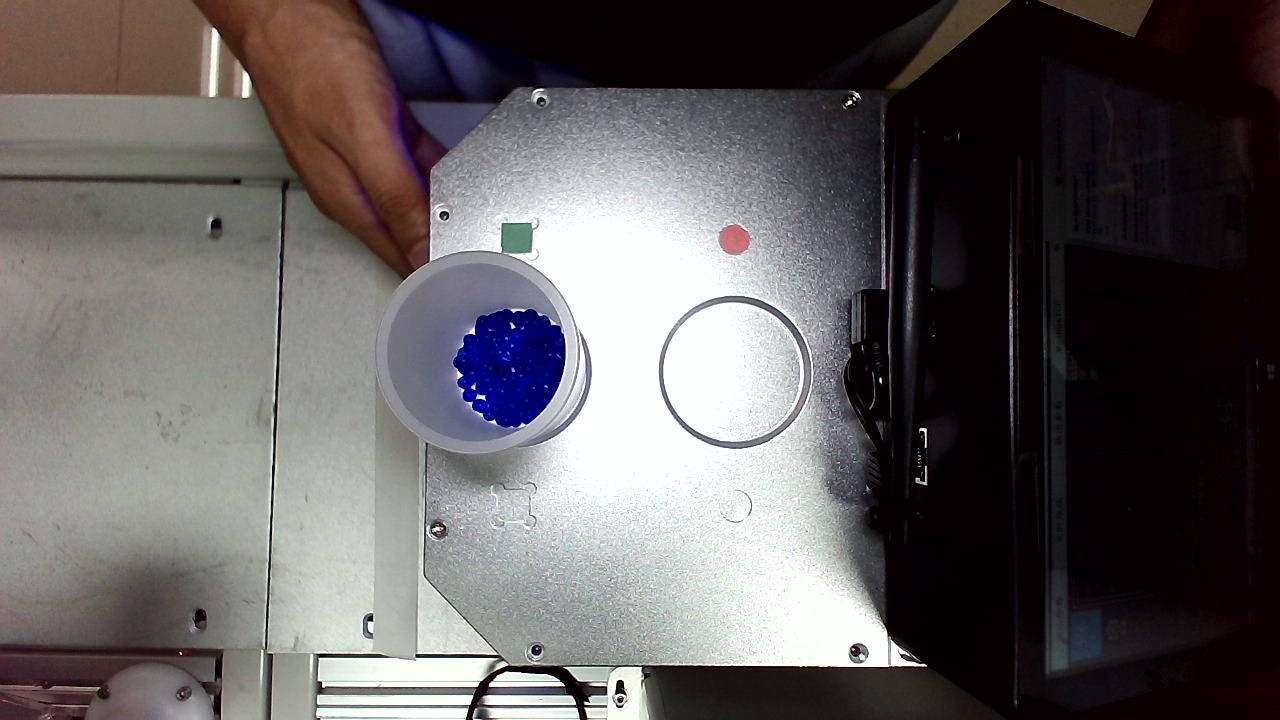bad: (835, 389, 886, 437), (272, 587, 320, 636), (756, 36, 801, 83), (745, 3, 786, 47), (261, 163, 304, 204), (749, 609, 790, 650), (477, 636, 518, 677), (285, 27, 325, 66), (397, 166, 436, 206), (475, 521, 513, 562), (832, 52, 873, 89), (254, 88, 296, 124), (399, 44, 438, 82), (497, 610, 534, 650), (440, 527, 479, 564), (825, 81, 862, 118), (435, 296, 472, 332), (753, 344, 789, 381), (818, 489, 852, 526), (812, 28, 845, 66)
defact: (671, 109, 717, 145)
pass: (609, 481, 654, 534), (757, 138, 801, 184), (530, 250, 573, 292), (539, 486, 581, 529), (259, 542, 301, 585), (300, 529, 340, 572), (361, 336, 400, 380), (426, 576, 468, 616), (665, 67, 704, 110), (458, 591, 495, 636), (693, 610, 733, 651), (580, 291, 619, 333), (640, 145, 678, 186), (853, 526, 891, 567), (811, 257, 851, 295), (840, 212, 879, 250), (578, 16, 612, 54)
toolong: (713, 431, 776, 486), (268, 108, 323, 160), (726, 503, 779, 550)
unpass: (528, 551, 576, 596), (832, 1, 875, 51), (820, 631, 862, 678), (341, 515, 385, 558), (836, 344, 880, 387), (266, 436, 308, 481), (833, 157, 873, 203), (262, 286, 306, 327), (786, 587, 826, 631), (608, 9, 646, 55), (851, 488, 890, 531), (293, 66, 336, 105), (466, 52, 504, 96), (723, 538, 760, 580), (283, 398, 322, 437), (447, 247, 484, 288), (752, 308, 791, 345), (318, 33, 355, 71), (272, 202, 311, 238), (703, 89, 736, 131), (532, 24, 567, 63)
